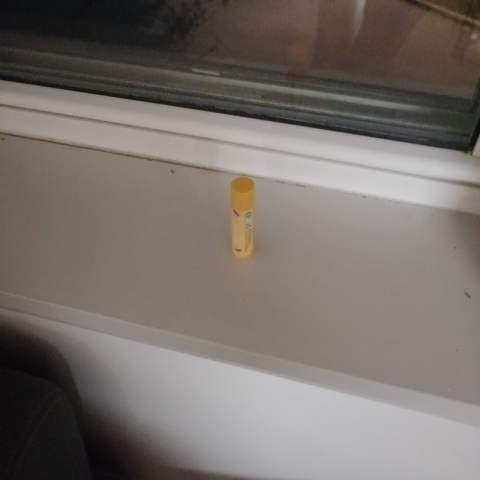chapstick: (229, 175, 256, 261)
